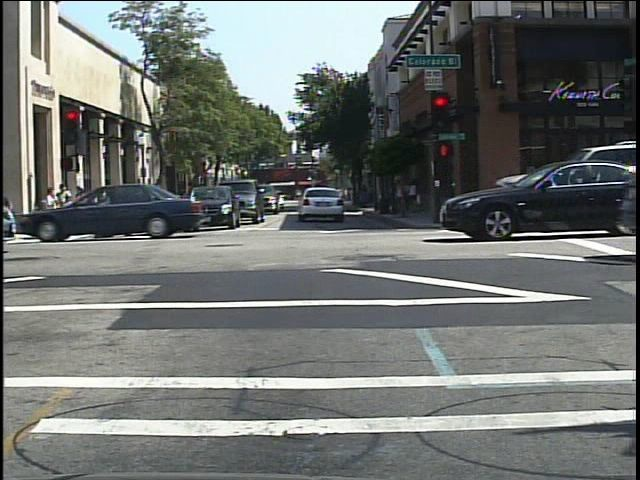person: (86, 187, 101, 229), (171, 183, 187, 218), (131, 183, 147, 214)
